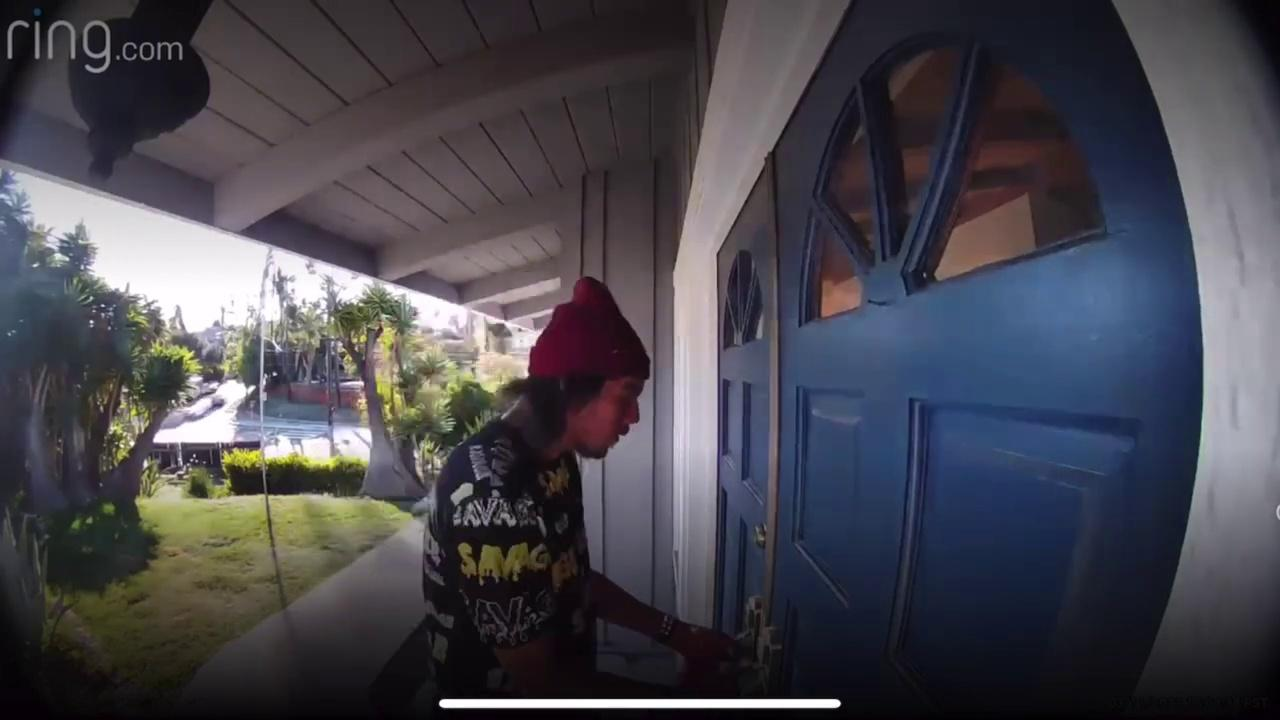suspicion: (402, 244, 786, 720)
